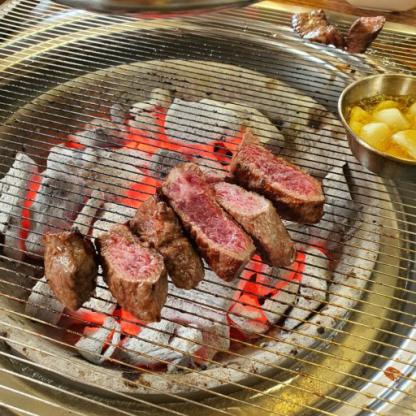Carne: (168, 164, 255, 292), (223, 136, 338, 226), (97, 221, 173, 323), (36, 217, 107, 317), (211, 181, 305, 253), (140, 200, 209, 288)
